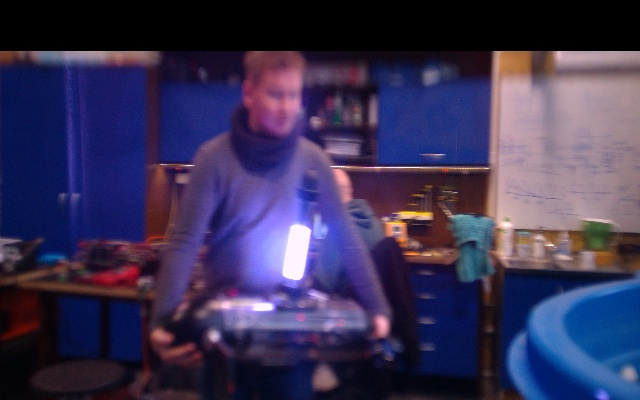white: (283, 223, 311, 281)
